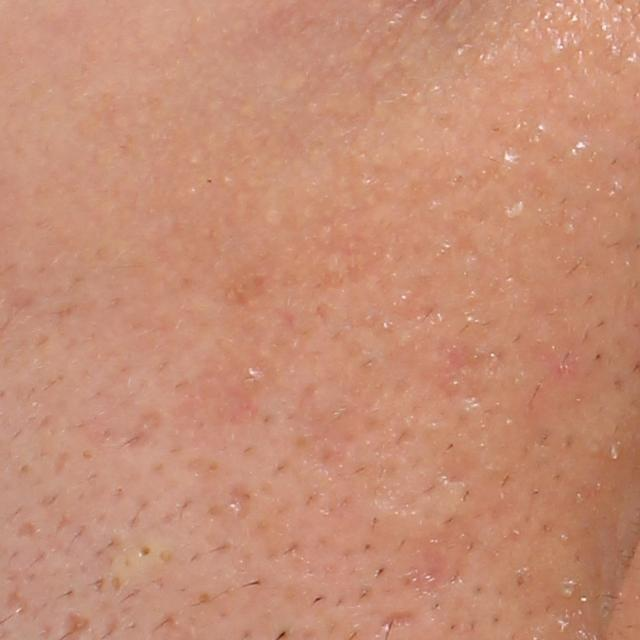atrophic_scar: (406, 511, 475, 592), (435, 437, 484, 486), (127, 407, 166, 447), (225, 483, 256, 521), (375, 609, 417, 633)
